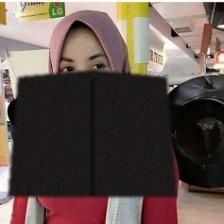Cadar_Niqab: (7, 8, 176, 196)
